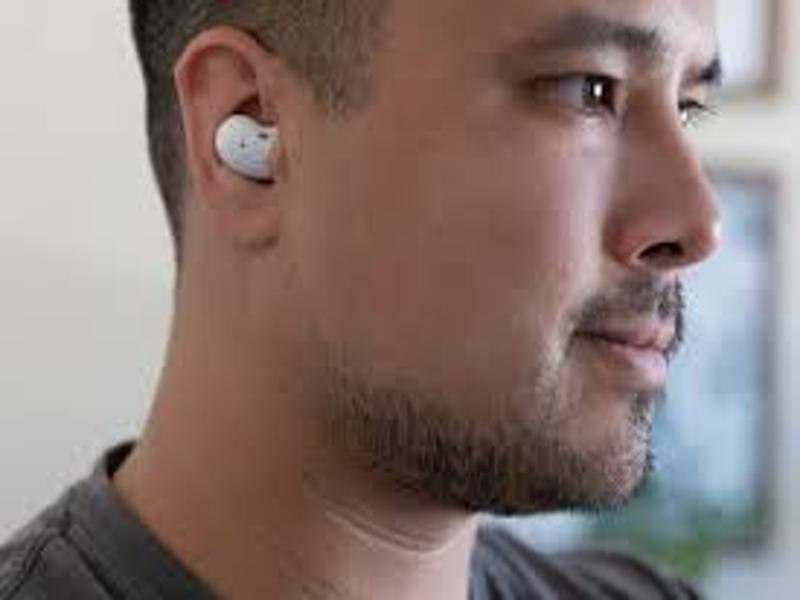headphone: (216, 114, 282, 184)
